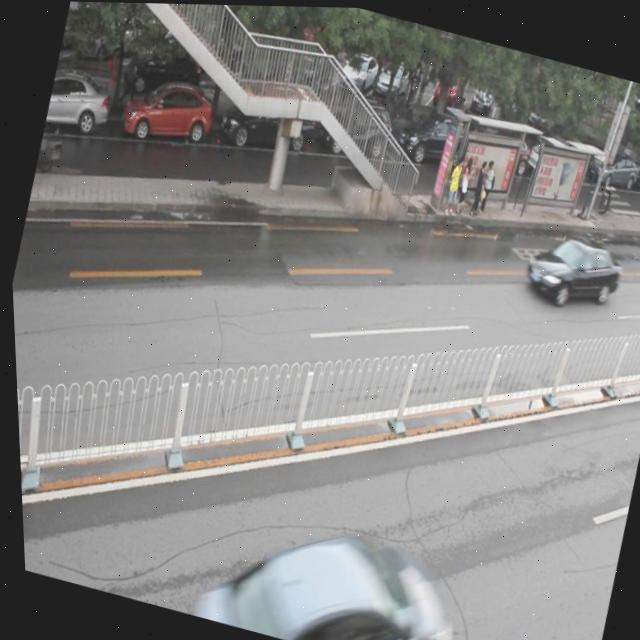car: (189, 498, 458, 640), (517, 223, 625, 315), (213, 69, 323, 159), (116, 68, 218, 150), (388, 96, 477, 177), (314, 86, 396, 165), (42, 64, 113, 139)
